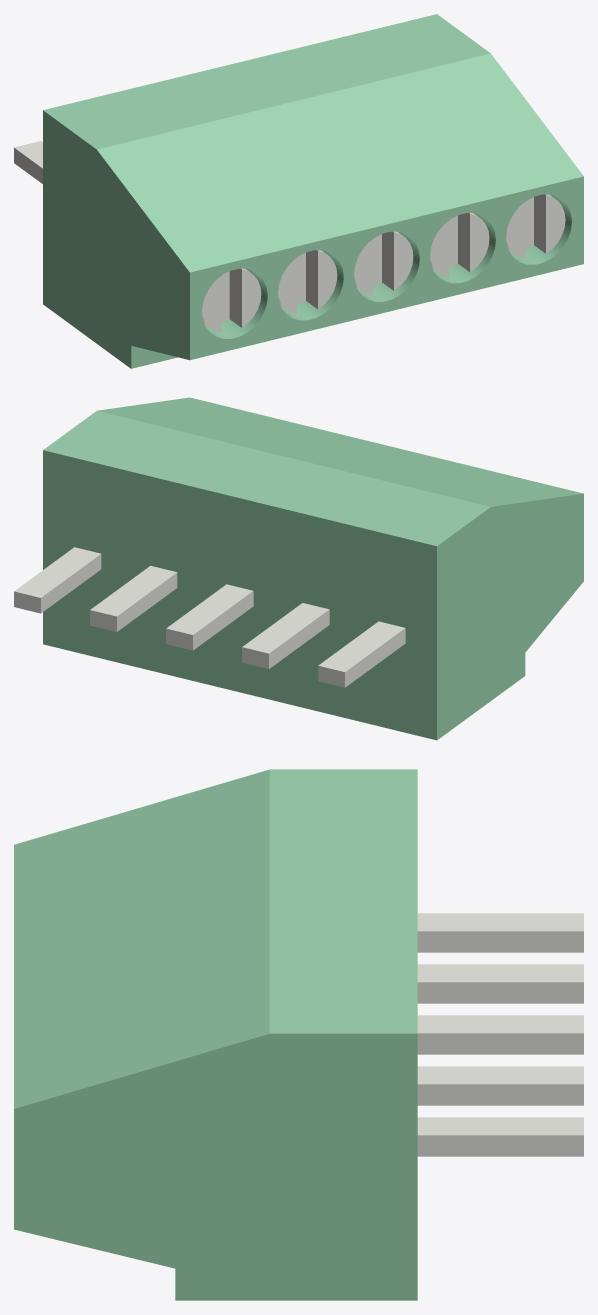
File: TerminalBlock_Phoenix_MPT-0,5-5-2.54_1x05_P2.54mm_Horizontal.glb
3 renders of one model, top to bottom at view 1: azimuth 30°, elevation 25°; view 2: azimuth 150°, elevation 25°; view 3: azimuth 270°, elevation 25°, orthographic. The views are drawn at different scales.
Visible parts, largest first — view 1: Shape_IndexedFaceSet.048, Shape_IndexedFaceSet.002, Shape_IndexedFaceSet.004, Shape_IndexedFaceSet.047, Shape_IndexedFaceSet.077, Shape_IndexedFaceSet.078, Shape_IndexedFaceSet.074, Shape_IndexedFaceSet.075, Shape_IndexedFaceSet.076, Shape_IndexedFaceSet.154, Shape_IndexedFaceSet.174, Shape_IndexedFaceSet.159 (+14 smaller); view 2: Shape_IndexedFaceSet, Shape_IndexedFaceSet.002, Shape_IndexedFaceSet.004, Shape_IndexedFaceSet.048, Shape_IndexedFaceSet.019, Shape_IndexedFaceSet.023, Shape_IndexedFaceSet.015, Shape_IndexedFaceSet.007, Shape_IndexedFaceSet.011, Shape_IndexedFaceSet.008, Shape_IndexedFaceSet.012, Shape_IndexedFaceSet.016 (+2 smaller); view 3: Shape_IndexedFaceSet.003, Shape_IndexedFaceSet.048, Shape_IndexedFaceSet.004, Shape_IndexedFaceSet.006, Shape_IndexedFaceSet.010, Shape_IndexedFaceSet.014, Shape_IndexedFaceSet.018, Shape_IndexedFaceSet.022, Shape_IndexedFaceSet.007, Shape_IndexedFaceSet.011, Shape_IndexedFaceSet.015, Shape_IndexedFaceSet.019 (+1 smaller).
Boxes of the visible parts, x1,y1,x2,y2 form: Shape_IndexedFaceSet.048: (97,53,583,272); Shape_IndexedFaceSet.002: (43,110,189,368); Shape_IndexedFaceSet.004: (43,14,490,149); Shape_IndexedFaceSet.047: (190,176,583,359); Shape_IndexedFaceSet.077: (281,250,343,320); Shape_IndexedFaceSet.078: (509,194,571,264); Shape_IndexedFaceSet.074: (433,213,495,283); Shape_IndexedFaceSet.075: (357,231,419,301); Shape_IndexedFaceSet.076: (205,268,267,338); Shape_IndexedFaceSet.154: (470,214,489,272); Shape_IndexedFaceSet.174: (546,195,565,253); Shape_IndexedFaceSet.159: (394,232,413,290); Shape_IndexedFaceSet: (43,450,436,740); Shape_IndexedFaceSet.002: (437,493,583,740); Shape_IndexedFaceSet.004: (43,411,490,546); Shape_IndexedFaceSet.048: (97,397,582,506); Shape_IndexedFaceSet.019: (90,565,176,616); Shape_IndexedFaceSet.023: (14,547,100,597); Shape_IndexedFaceSet.015: (318,621,404,671); Shape_IndexedFaceSet.007: (166,584,252,634); Shape_IndexedFaceSet.011: (242,603,328,653); Shape_IndexedFaceSet.008: (193,591,253,650); Shape_IndexedFaceSet.012: (269,609,329,668); Shape_IndexedFaceSet.016: (345,628,405,687); Shape_IndexedFaceSet.003: (14,1033,417,1300); Shape_IndexedFaceSet.048: (14,769,269,1108); Shape_IndexedFaceSet.004: (269,769,417,1033); Shape_IndexedFaceSet.006: (417,1033,583,1054); Shape_IndexedFaceSet.010: (417,982,583,1003); Shape_IndexedFaceSet.014: (417,931,583,952); Shape_IndexedFaceSet.018: (417,1084,583,1105); Shape_IndexedFaceSet.022: (417,1135,583,1156); Shape_IndexedFaceSet.007: (417,1015,583,1033); Shape_IndexedFaceSet.011: (417,964,583,982); Shape_IndexedFaceSet.015: (417,913,583,931); Shape_IndexedFaceSet.019: (417,1066,583,1084).
Bounding box in the file's own units: 5.18 × 2.44 × 4.72.
